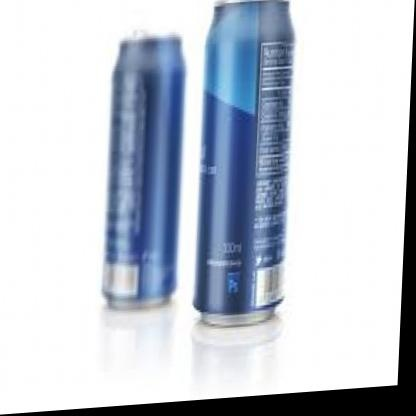trash: (194, 0, 293, 325), (102, 36, 184, 307)
